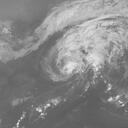cyclone: (47, 28, 103, 82)
